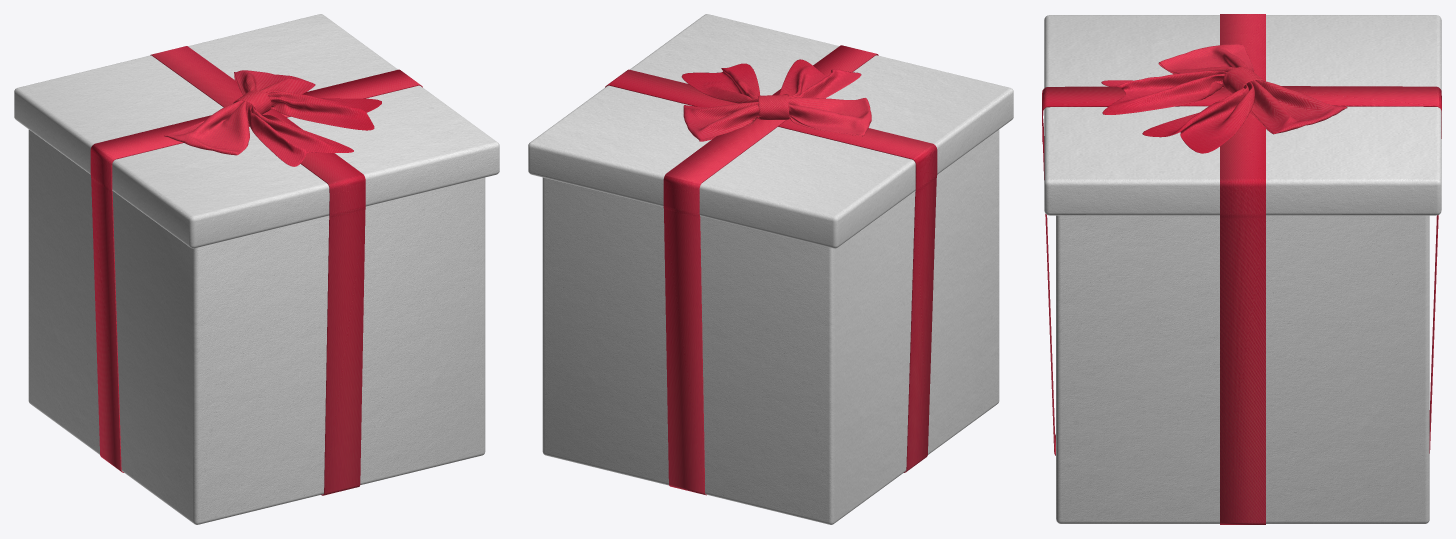
Rendered from gift_box_with_a_bow.glb.
3 views of the same model, side by side, from view 1: azimuth 30°, elevation 25°; view 2: azimuth 150°, elevation 25°; view 3: azimuth 270°, elevation 25° (orthographic). The views are drawn at different scales.
Parts seen in each view (by area): view 1: gift main_0, gift cap_1, tape 2_3, tape_2, bow_4; view 2: gift main_0, gift cap_1, tape 2_3, tape_2, bow_4; view 3: gift main_0, gift cap_1, tape_2, bow_4, tape 2_3.
Boxes of the visible parts, left/top/right/bottom form: gift main_0: left=28, top=129, right=485, bottom=524; gift cap_1: left=14, top=14, right=499, bottom=248; tape 2_3: left=150, top=46, right=365, bottom=495; tape_2: left=90, top=69, right=422, bottom=472; bow_4: left=164, top=70, right=381, bottom=166; gift main_0: left=542, top=129, right=999, bottom=524; gift cap_1: left=528, top=14, right=1013, bottom=248; tape 2_3: left=663, top=45, right=878, bottom=495; tape_2: left=605, top=69, right=937, bottom=472; bow_4: left=681, top=59, right=871, bottom=141; gift main_0: left=1056, top=215, right=1429, bottom=523; gift cap_1: left=1044, top=15, right=1441, bottom=215; tape_2: left=1220, top=14, right=1265, bottom=524; bow_4: left=1101, top=44, right=1347, bottom=153; tape 2_3: left=1042, top=86, right=1441, bottom=455.
Bounding box in the file's own units: 2.14 × 2.2 × 2.14.
3 materials, 3 textured.
